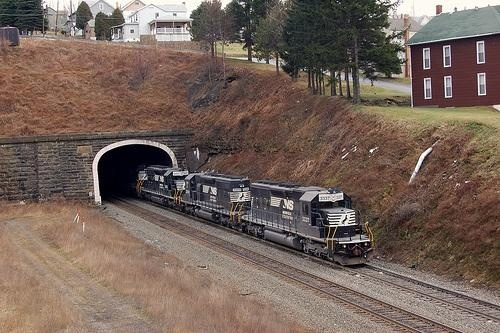train: (136, 163, 377, 270)
